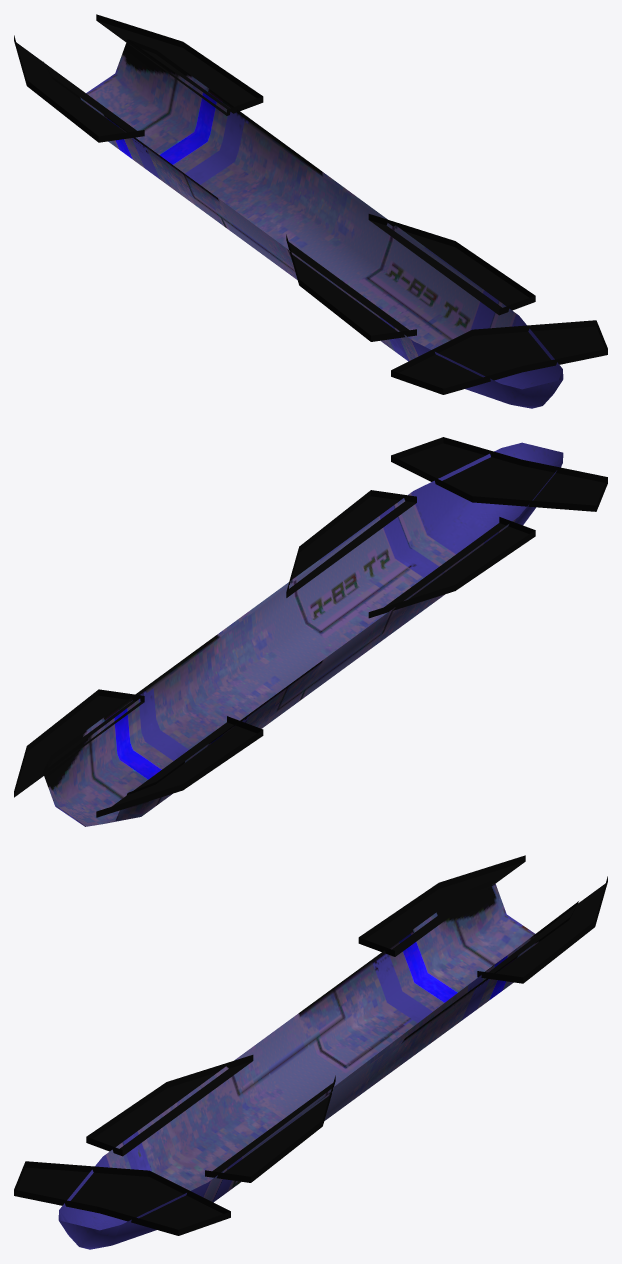
File: EmpTorp.fbx
3 renders of one model, top to bottom at view 1: azimuth 30°, elevation 25°; view 2: azimuth 150°, elevation 25°; view 3: azimuth 330°, elevation 25°, orthographic.
Parts seen in each view (by area): view 1: EmpTorp; view 2: EmpTorp; view 3: EmpTorp.
Part boxes in pixels (x1=…): EmpTorp: x1=14, y1=14, x2=607, y2=408; EmpTorp: x1=14, y1=437, x2=607, y2=826; EmpTorp: x1=14, y1=855, x2=607, y2=1249.
Size of the model in its own units: 7.1 by 1.93 by 29.18.
Materials: 1 (1 with a texture image).
